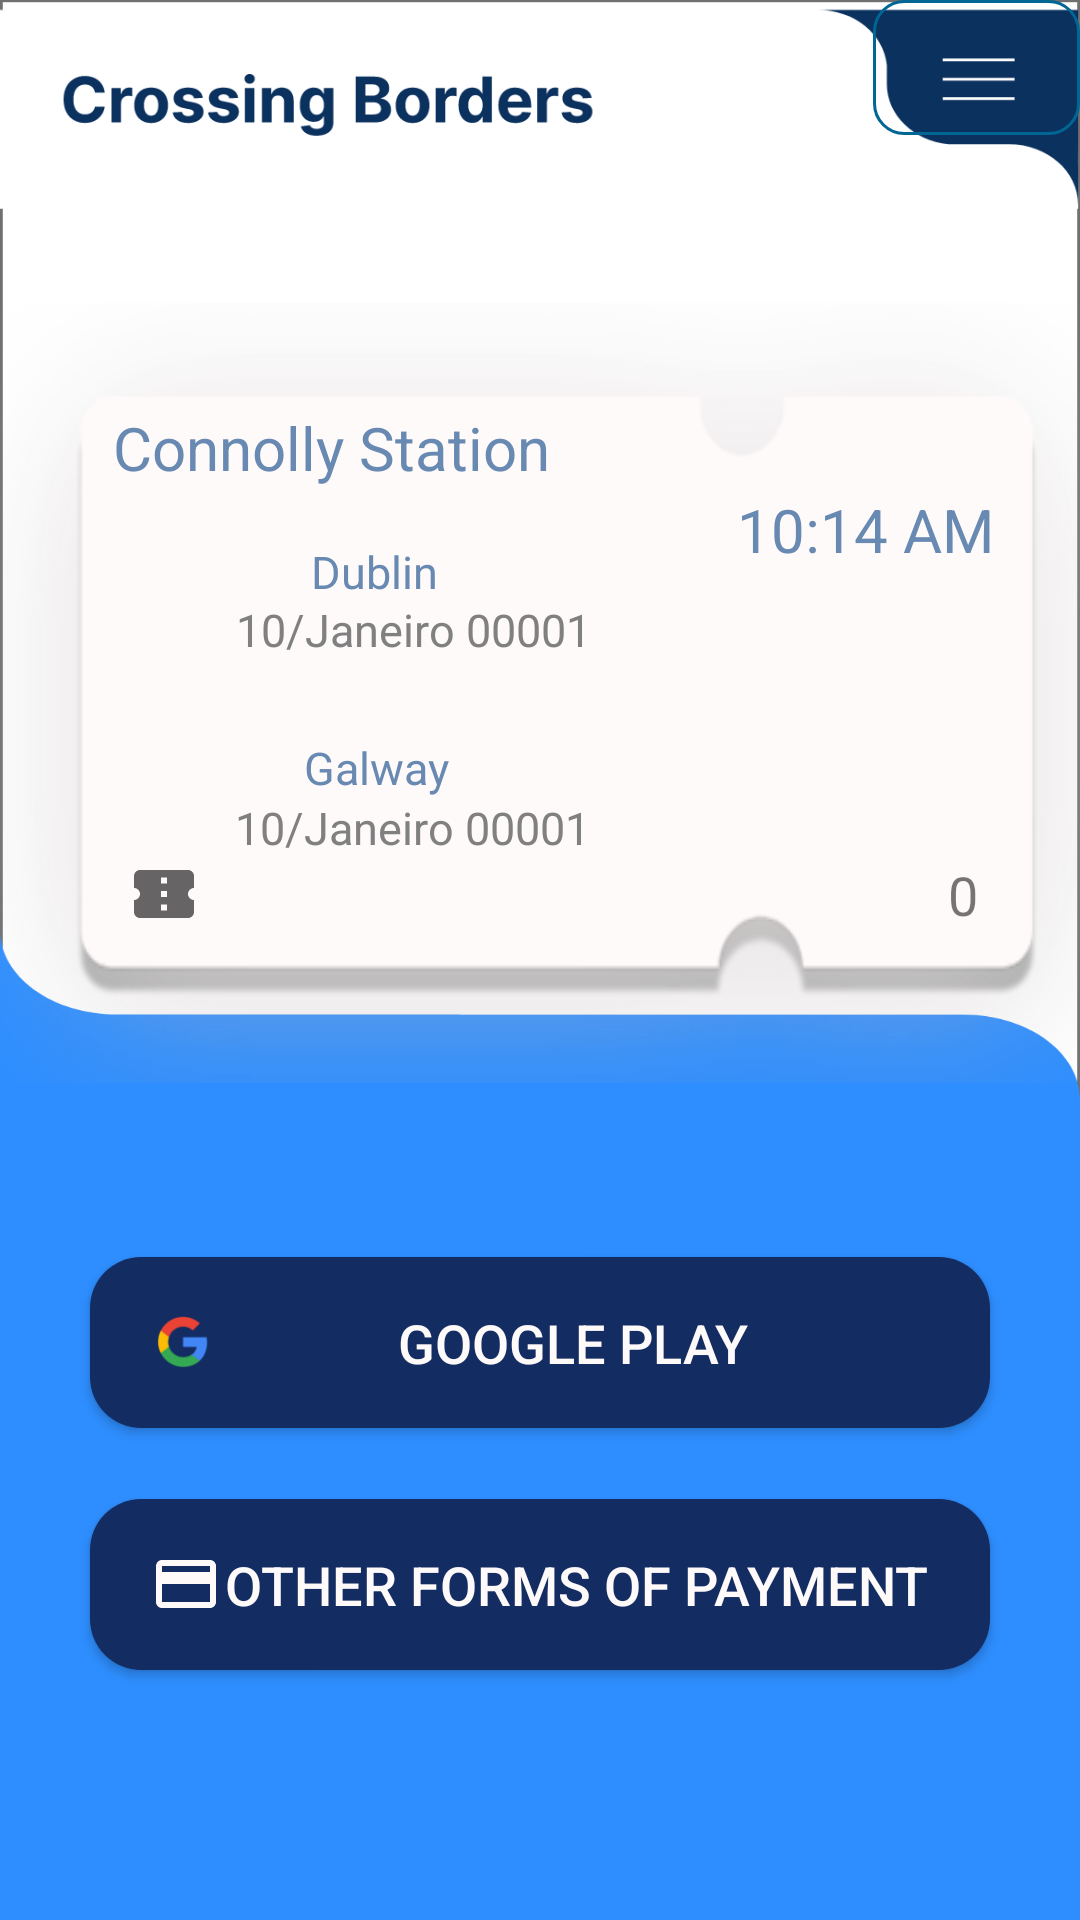

Where to tap for icons on this 1080x1920 app screen, as (x,y):
ticket: (164,894)
